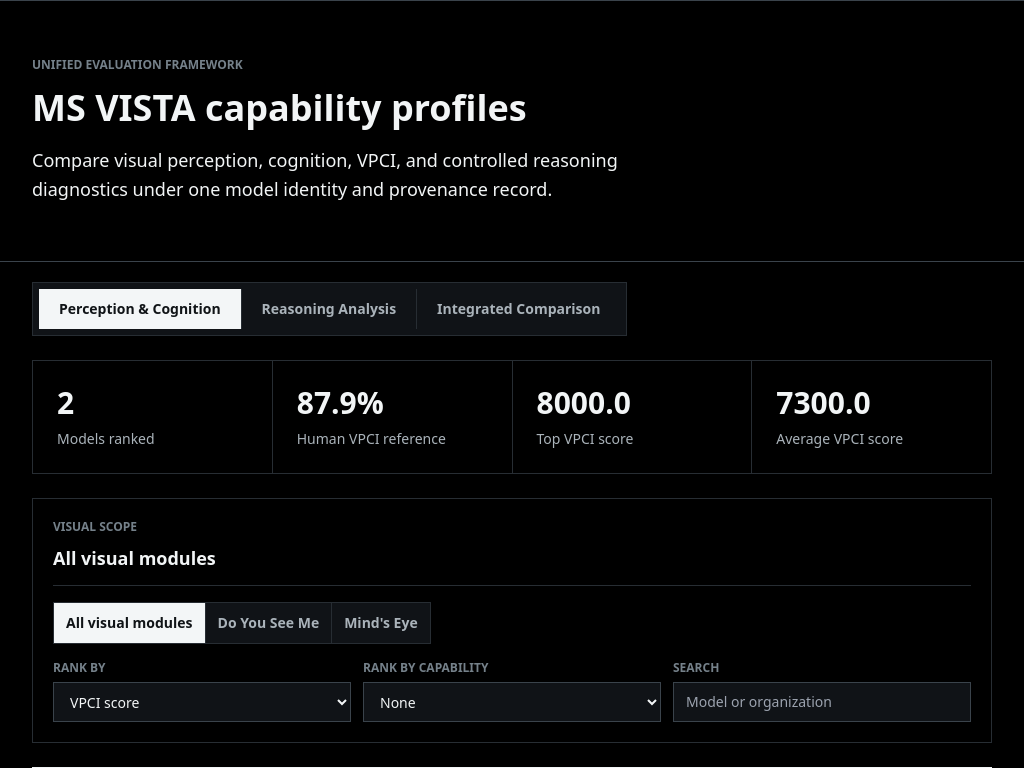
it: leaderboard filter contracts › distinguishes an unpublished spatial leaderboard from an empty filter result
The width and height of the screenshot is (1024, 768).
Click the tab "Reasoning Analysis" at (329, 308), box [242,288,417,328]
(page scrolled)
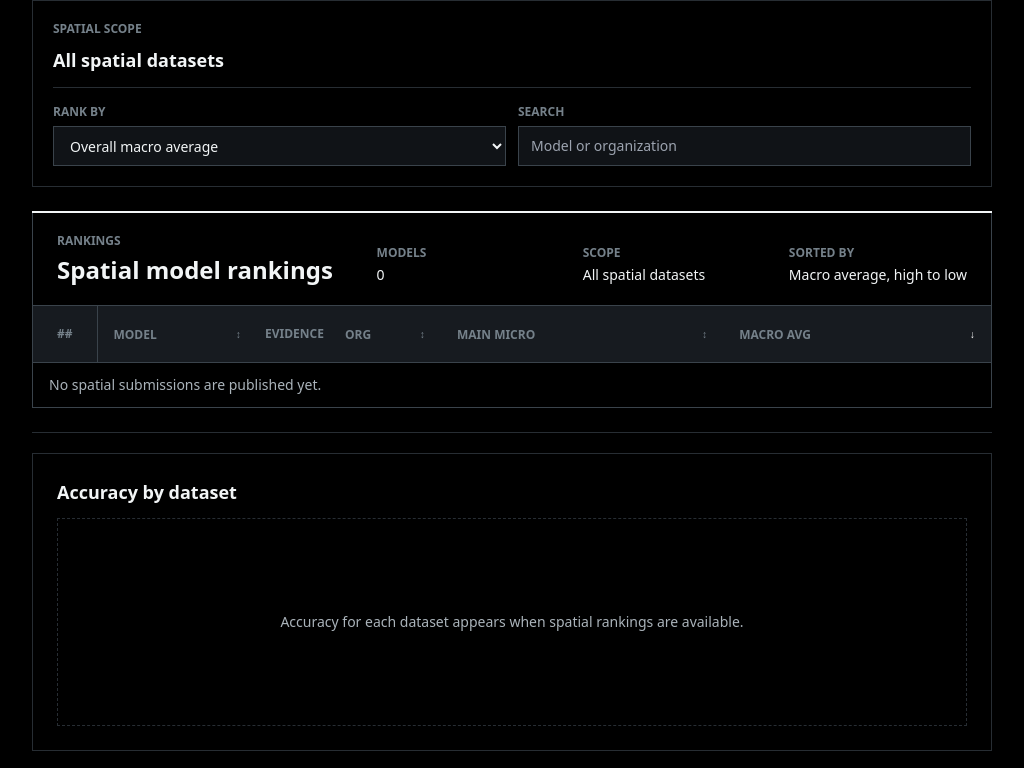
Expected: the text "No spatial submissions are published yet." is shown, [33,362,991,407]
